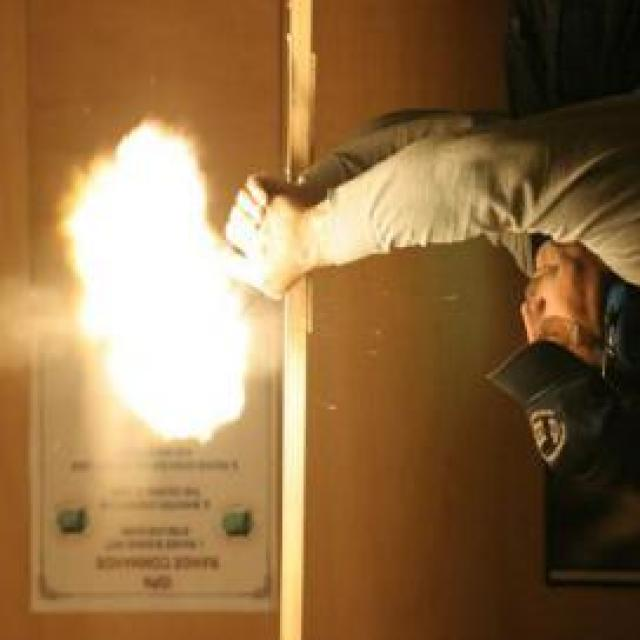pistol: (178, 187, 282, 329)
